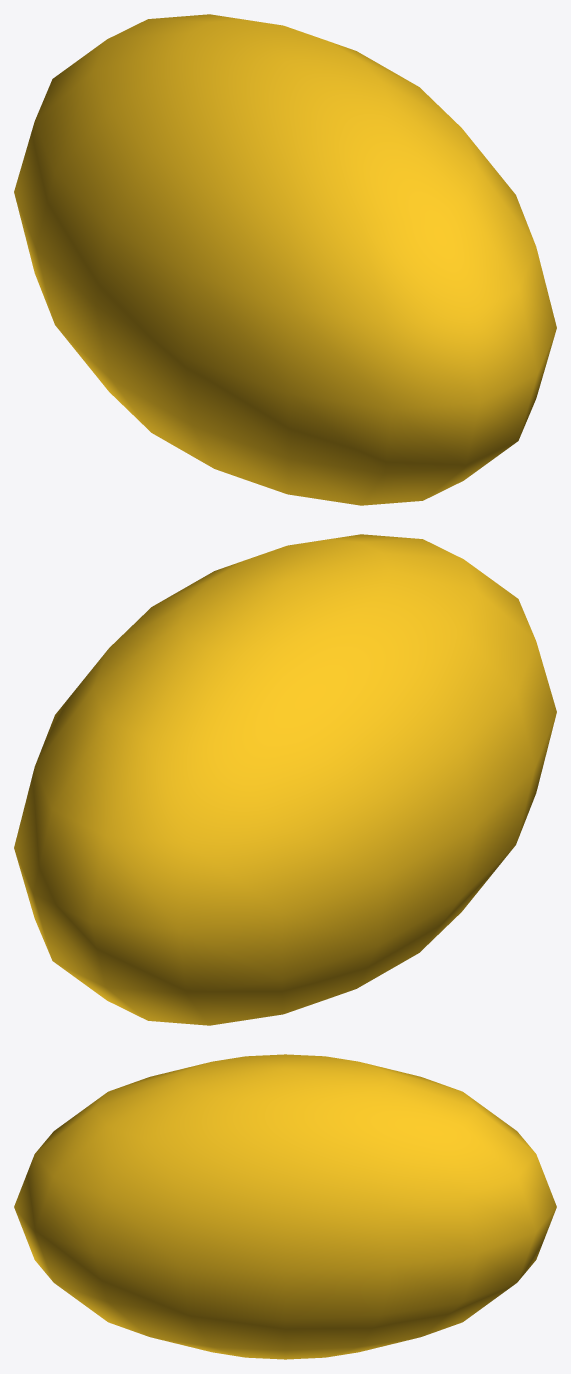
The model's file is COM-PROJECTILE-02.glb.
3 renders of one model, top to bottom at view 1: azimuth 30°, elevation 25°; view 2: azimuth 150°, elevation 25°; view 3: azimuth 270°, elevation 25°, orthographic. The views are drawn at different scales.
Visible parts, largest first — view 1: effect; view 2: effect; view 3: effect.
Boxes of the visible parts, <box> form: effect: <box>14,14,556,505</box>; effect: <box>14,534,556,1025</box>; effect: <box>14,1054,556,1359</box>.
Size of the model in its own units: 0.18 by 0.18 by 0.32.
